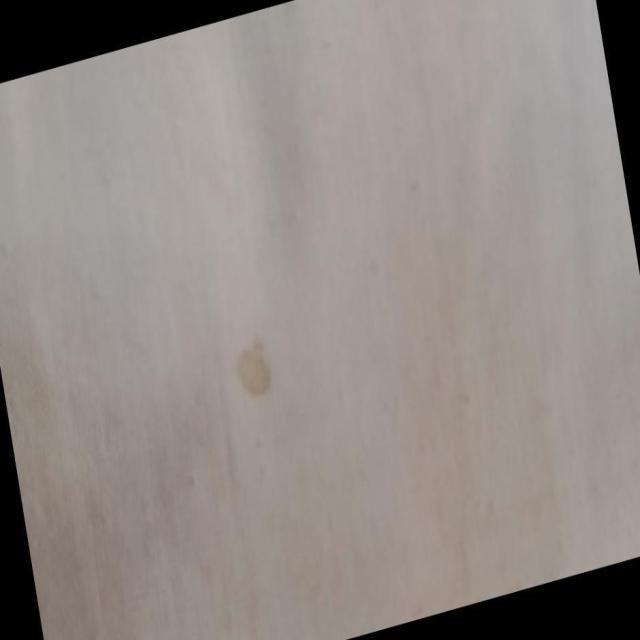stain: (228, 330, 283, 410)
